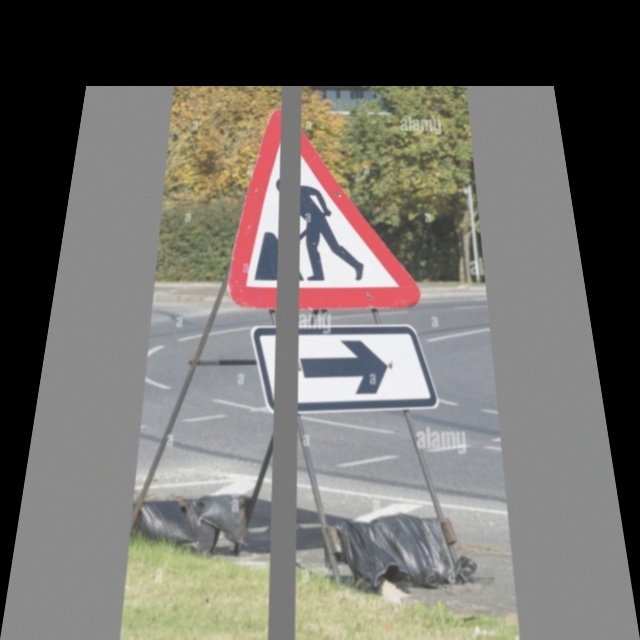Men_at_Work: (206, 110, 429, 309)
